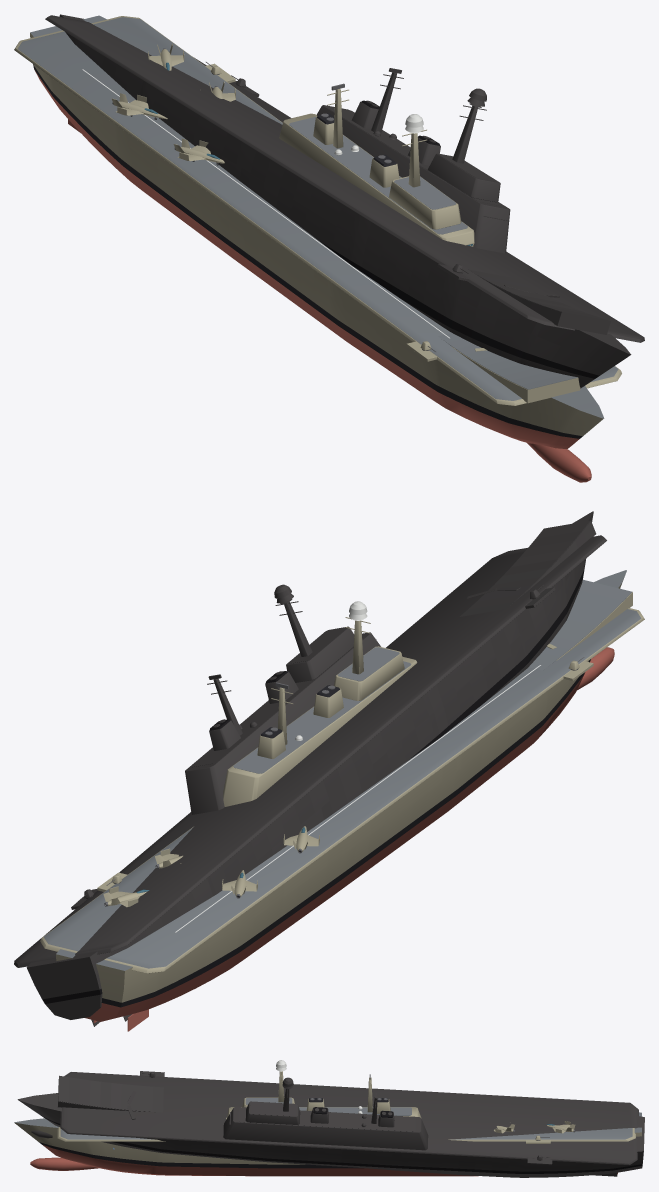
The model's file is carrier__cavour.glb.
3 renders of one model, top to bottom at view 1: azimuth 30°, elevation 25°; view 2: azimuth 150°, elevation 25°; view 3: azimuth 270°, elevation 25°, orthographic. The views are drawn at different scales.
Parts seen in each view (by area): view 1: Hull_Mesh, Wreck, DeckPlane2_Mesh, DeckPlane3_Mesh; view 2: Wreck, Hull_Mesh; view 3: Wreck, Hull_Mesh, DeckPlane0_Mesh.
Boxes of the visible parts, bbox=[...] form: Hull_Mesh: bbox=[14, 15, 621, 482]; Wreck: bbox=[45, 14, 644, 388]; DeckPlane2_Mesh: bbox=[111, 93, 167, 119]; DeckPlane3_Mesh: bbox=[173, 138, 224, 165]; Wreck: bbox=[14, 511, 606, 1026]; Hull_Mesh: bbox=[40, 570, 644, 1031]; Wreck: bbox=[17, 1071, 644, 1177]; Hull_Mesh: bbox=[14, 1060, 641, 1176]; DeckPlane0_Mesh: bbox=[547, 1121, 575, 1133].
Size of what is drawn, in the model's own units: 51.62 by 55.84 by 255.
